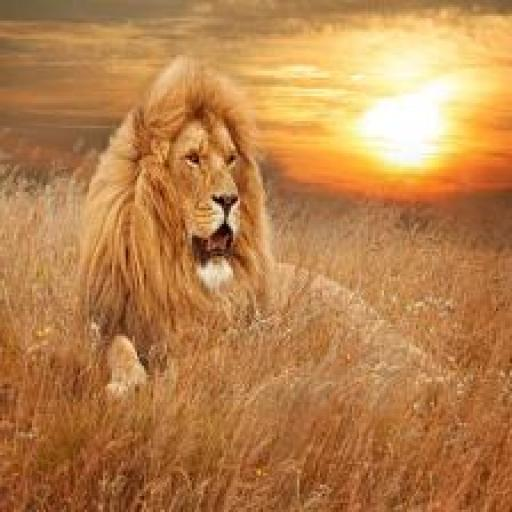lion: (78, 52, 275, 407)
